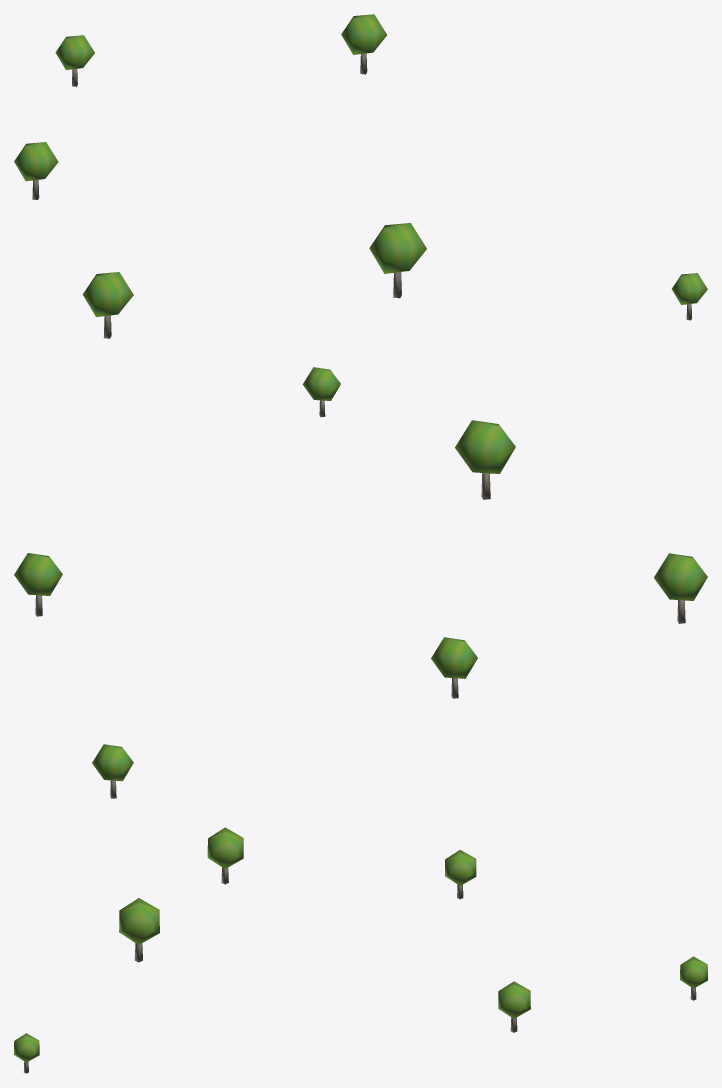
The model's file is ISL-L_LOD2_Trees.fbx.
The picture shows the model from 3 angles, top to bottom: view 1: azimuth 30°, elevation 25°; view 2: azimuth 150°, elevation 25°; view 3: azimuth 270°, elevation 25°; orthographic projection. The views are drawn at different scales.
Visible parts, largest first — view 1: ISL-L_LOD2_Trees; view 2: ISL-L_LOD2_Trees; view 3: ISL-L_LOD2_Trees.
Boxes of the visible parts, x1=… form: ISL-L_LOD2_Trees: x1=14, y1=14, x2=707, y2=338; ISL-L_LOD2_Trees: x1=14, y1=367, x2=707, y2=798; ISL-L_LOD2_Trees: x1=14, y1=827, x2=707, y2=1073.
Size of the model in its own units: 46.75 by 69.39 by 9.99.
